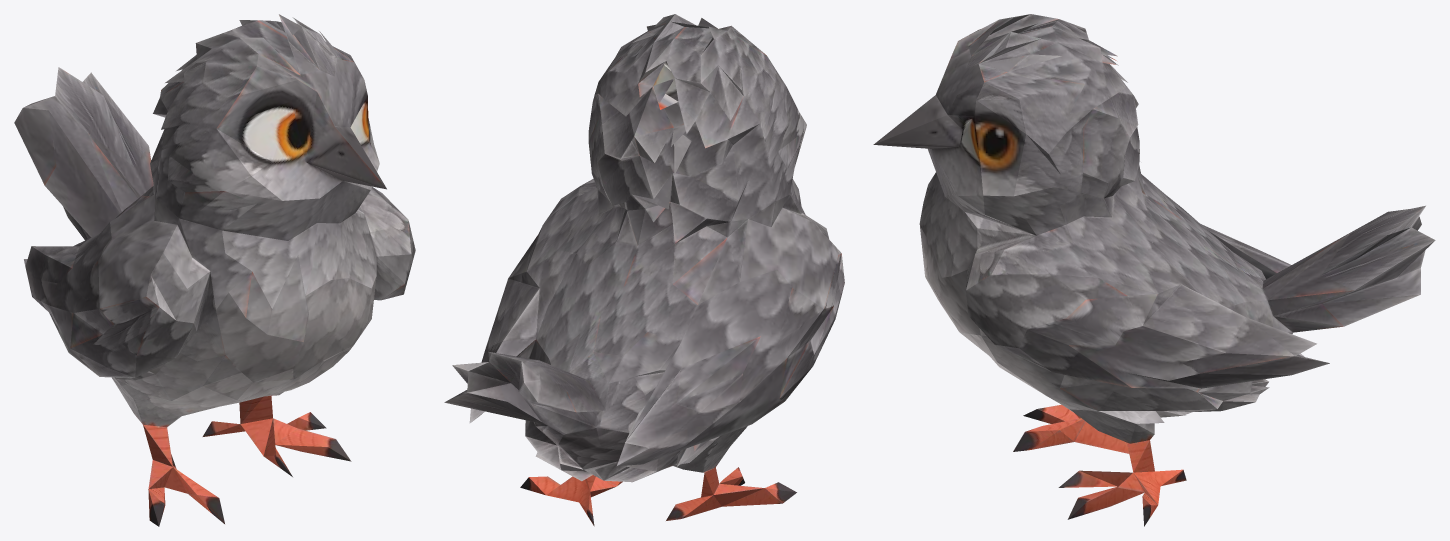
Rendered from songbird.glb.
The picture shows the model from 3 angles, left to right: view 1: azimuth 30°, elevation 25°; view 2: azimuth 150°, elevation 25°; view 3: azimuth 270°, elevation 25°; orthographic projection. The views are drawn at different scales.
Size of the model in its own units: 0.0958 by 0.15 by 0.1665.
Materials: 1 (1 with a texture image).
